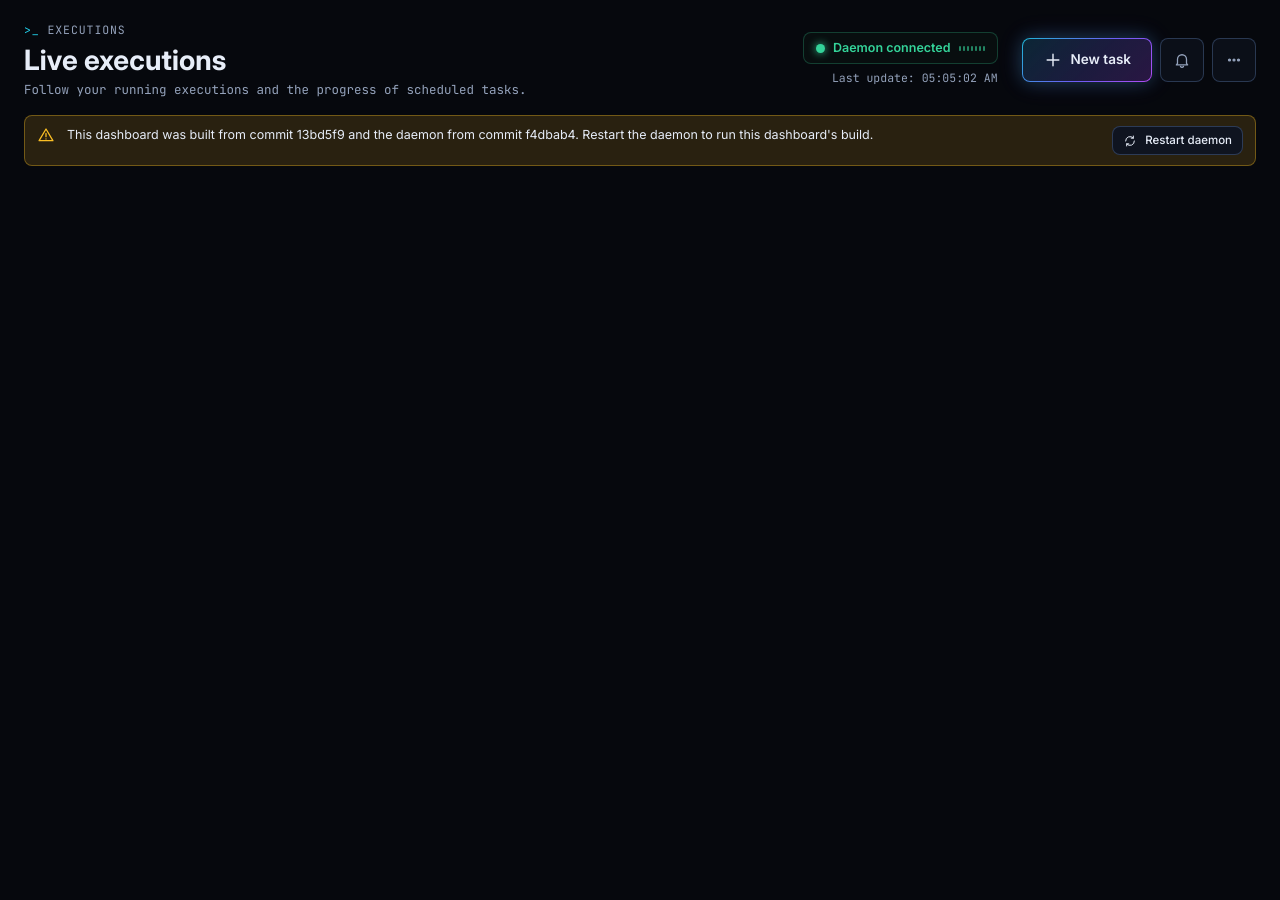
Test: restarting the daemon from the banner › reports a daemon that does not come back
Step 1. Click the button "Restart daemon" → (1178, 141), box top-left (1112, 126), bottom-right (1243, 155)
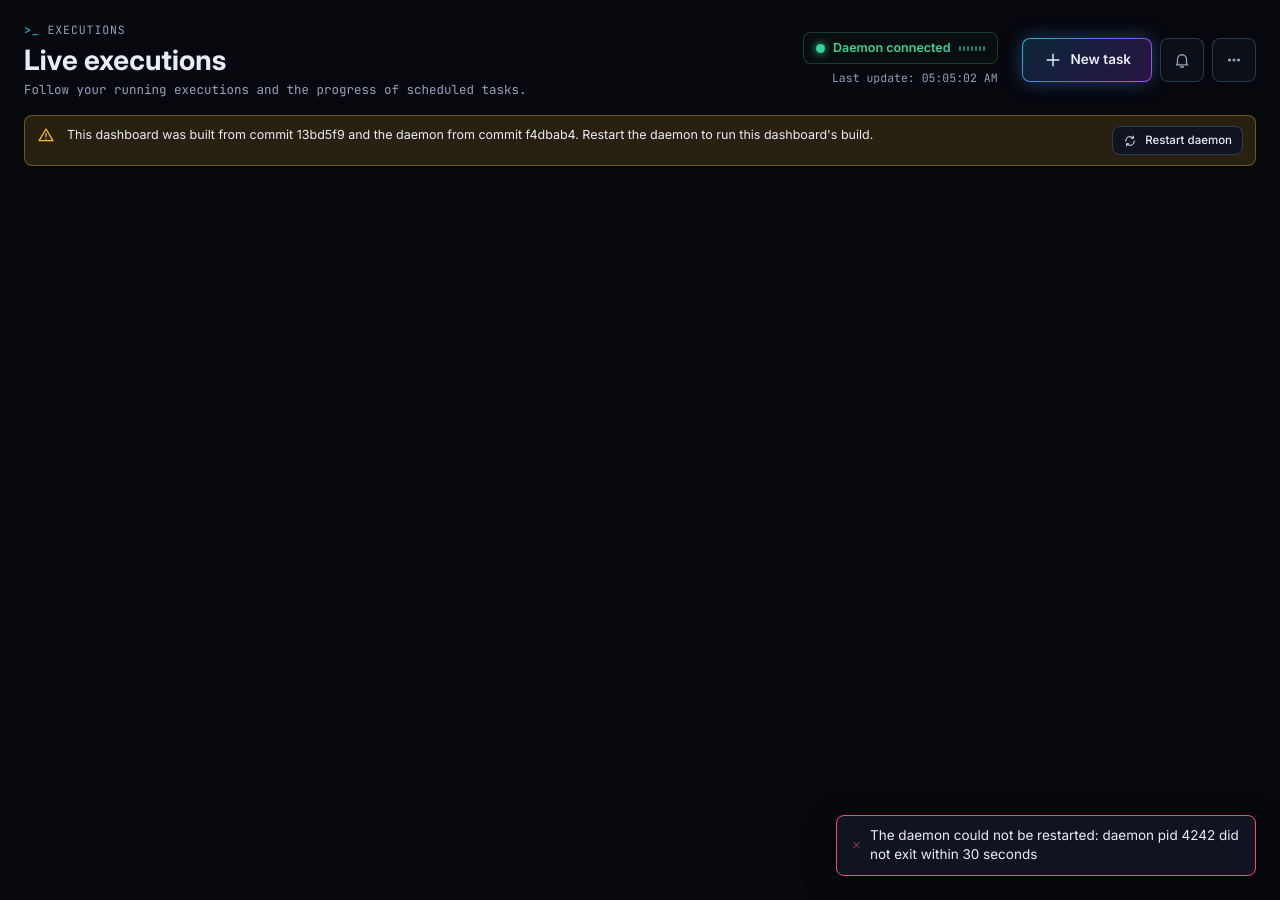
Check: the element with class "toast--danger" shows "The daemon could not be restarted: daemon pid 4242 did not exit within 30 seconds", box top-left (870, 827), bottom-right (1239, 862)
